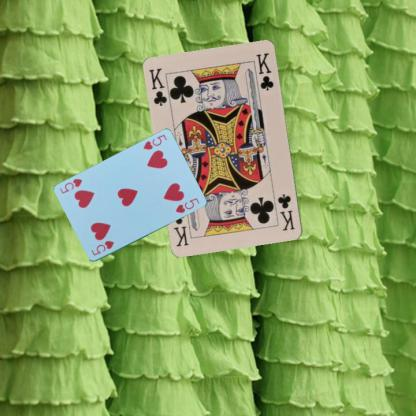5h: (141, 132, 168, 152), (88, 238, 115, 257)
Kc: (146, 66, 168, 107), (275, 192, 296, 232)
